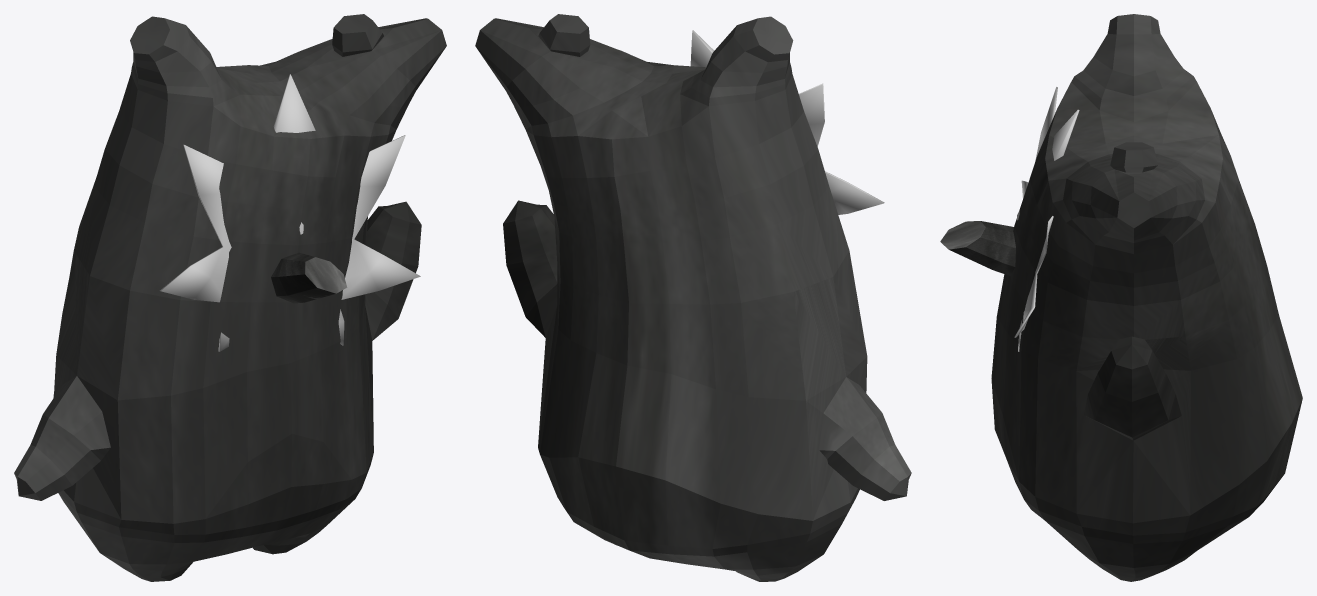
Rendered from frame_0057.obj.
3 renders of one model, left to right at view 1: azimuth 30°, elevation 25°; view 2: azimuth 150°, elevation 25°; view 3: azimuth 270°, elevation 25°, orthographic. The views are drawn at different scales.
Parts seen in each view (by area): view 1: korok, leaf, nose.003_柱体.011; view 2: korok, leaf; view 3: korok, nose.003_柱体.011, leaf.
Boxes of the visible parts, box(x1,y1,x2,y2) form: korok: box(14, 14, 446, 581); leaf: box(160, 74, 420, 351); nose.003_柱体.011: box(271, 252, 347, 303); korok: box(475, 14, 911, 581); leaf: box(690, 30, 884, 214); korok: box(991, 14, 1302, 581); nose.003_柱体.011: box(940, 221, 1015, 275); leaf: box(1014, 87, 1079, 351).
Size of the model in its own units: 1.7 by 2.13 by 1.36.
